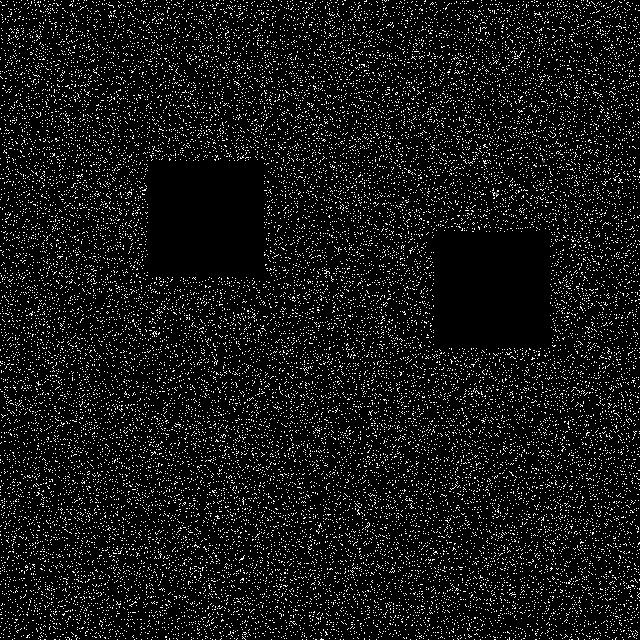QR_CODE: (134, 255, 320, 393), (390, 374, 504, 458), (434, 260, 538, 342)
